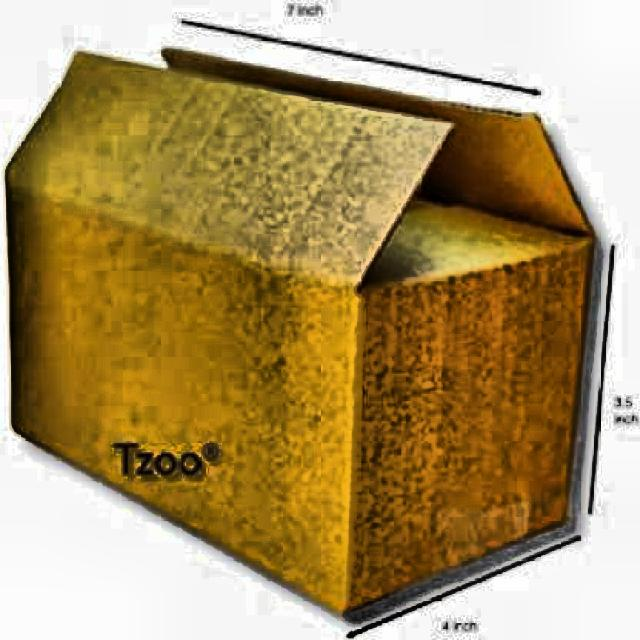Cardbox: (0, 0, 629, 605)
